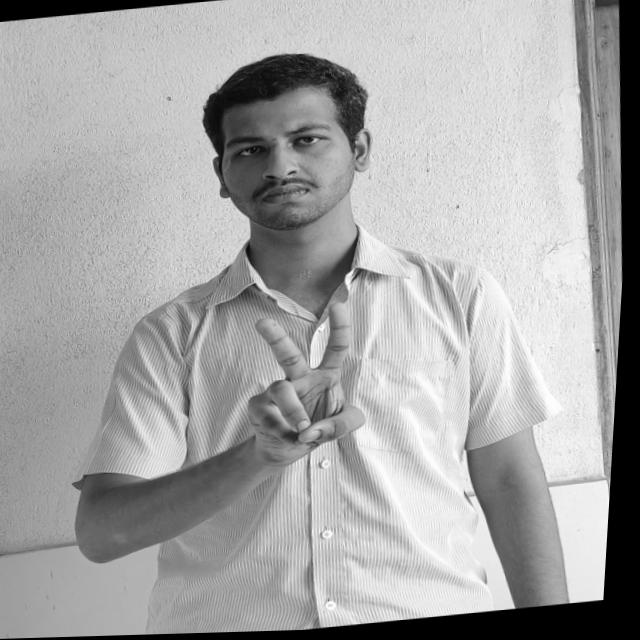Victory: (240, 297, 381, 467)
